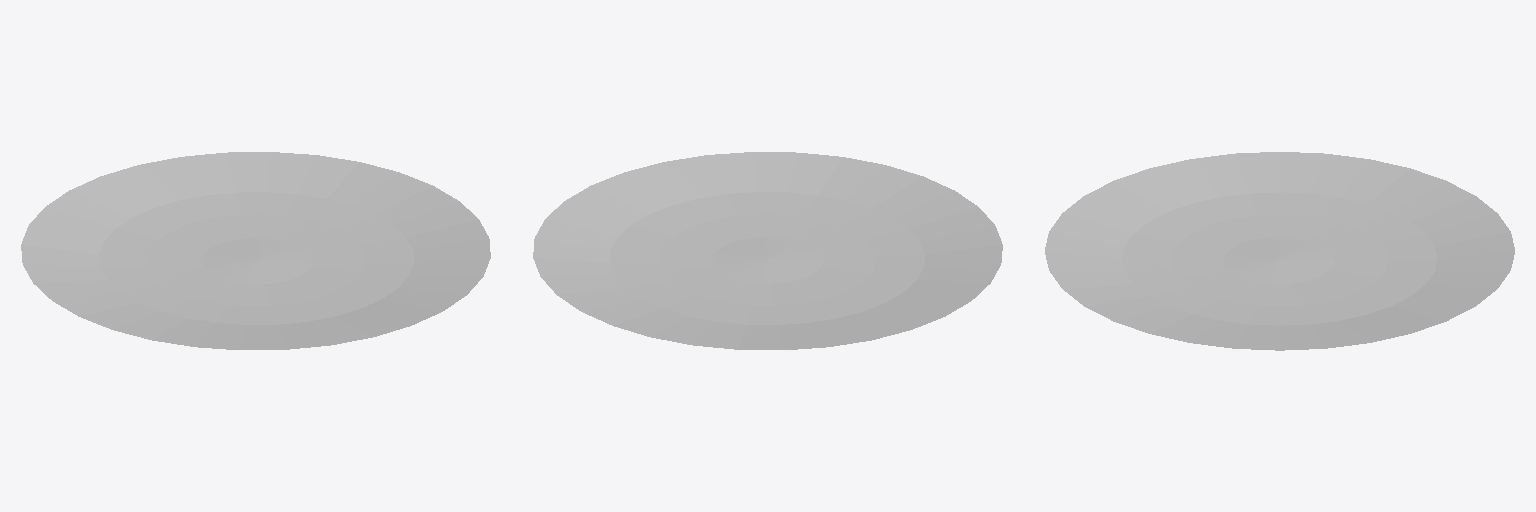
Rendered from ingredient_V3.obj.
3 renders of one model, left to right at view 1: azimuth 30°, elevation 25°; view 2: azimuth 150°, elevation 25°; view 3: azimuth 270°, elevation 25°, orthographic.
Parts seen in each view (by area): view 1: Sphere; view 2: Sphere; view 3: Sphere.
Boxes of the visible parts, x1,y1,x2,y2 form: Sphere: [21, 152, 490, 349]; Sphere: [533, 152, 1002, 349]; Sphere: [1045, 152, 1514, 350].
Size of the model in its own units: 1.8 by 0.0404 by 1.8.